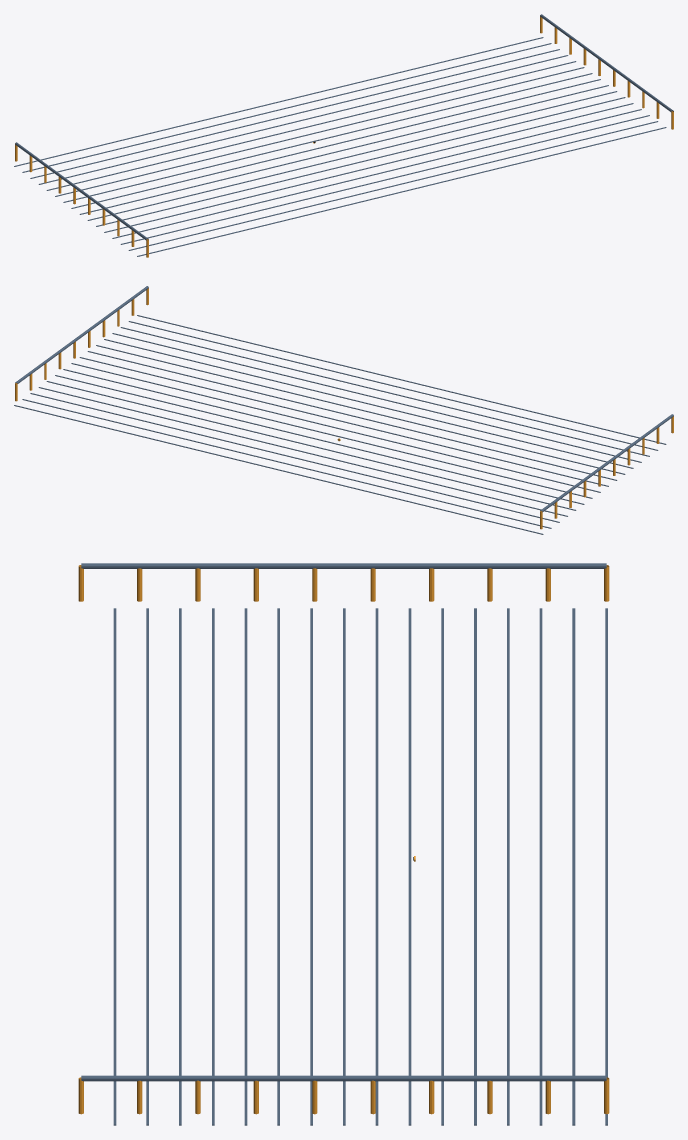
Rendered from 10_L88_LifeSupportEquipmentServiceWalkway.fbx.
The picture shows the model from 3 angles, top to bottom: view 1: azimuth 30°, elevation 25°; view 2: azimuth 150°, elevation 25°; view 3: azimuth 270°, elevation 25°; orthographic projection. The views are drawn at different scales.
Visible parts, largest first — view 1: L87_LifeSupportEquipmentServiceWalkway_Part_0001, L87_LifeSupportEquipmentServiceWalkway_Part_0000; view 2: L87_LifeSupportEquipmentServiceWalkway_Part_0001, L87_LifeSupportEquipmentServiceWalkway_Part_0000; view 3: L87_LifeSupportEquipmentServiceWalkway_Part_0001, L87_LifeSupportEquipmentServiceWalkway_Part_0000.
Part boxes in pixels (x1,y1,x2,y2): L87_LifeSupportEquipmentServiceWalkway_Part_0001: (14,14,673,256); L87_LifeSupportEquipmentServiceWalkway_Part_0000: (15,16,673,257); L87_LifeSupportEquipmentServiceWalkway_Part_0001: (14,286,673,534); L87_LifeSupportEquipmentServiceWalkway_Part_0000: (15,288,673,529); L87_LifeSupportEquipmentServiceWalkway_Part_0001: (81,563,607,1125); L87_LifeSupportEquipmentServiceWalkway_Part_0000: (78,565,609,1114).
Size of the model in its own units: 2720 by 133 by 1182.
